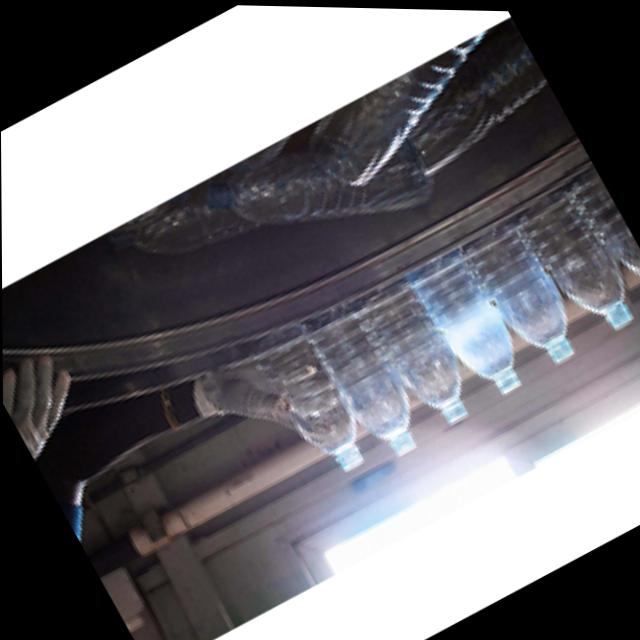plastic_water_bottles: (408, 246, 543, 412), (309, 309, 440, 477), (465, 217, 591, 383), (517, 182, 640, 346), (263, 333, 381, 485), (578, 168, 640, 315)
